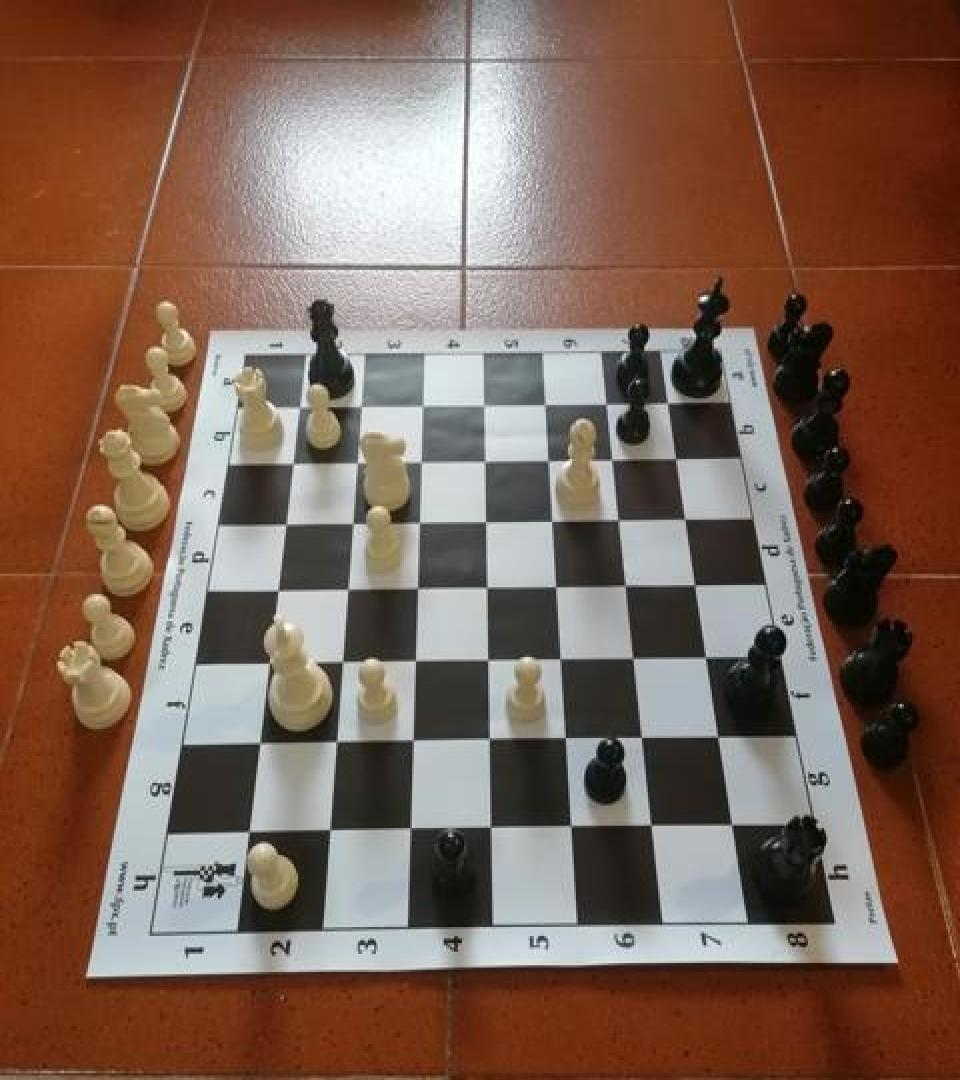xcorner: (659, 388, 687, 420), (596, 388, 624, 420), (534, 388, 562, 420), (472, 389, 500, 421), (409, 389, 437, 421), (347, 389, 375, 421), (284, 390, 312, 422), (667, 444, 695, 476), (603, 444, 631, 476), (538, 445, 566, 477), (473, 445, 501, 477), (408, 445, 436, 477), (677, 505, 705, 537), (609, 506, 637, 538), (542, 506, 570, 538), (474, 506, 502, 538), (406, 507, 434, 539), (338, 507, 366, 539), (270, 508, 298, 540), (687, 571, 715, 603), (329, 648, 357, 680), (254, 648, 282, 680), (710, 723, 738, 755), (633, 724, 661, 756), (723, 811, 751, 843), (643, 812, 671, 844), (561, 813, 589, 845), (480, 813, 508, 845), (399, 814, 427, 846), (343, 447, 371, 478), (277, 447, 305, 478), (616, 573, 644, 604), (546, 573, 574, 604), (475, 574, 503, 605), (405, 574, 433, 605), (334, 575, 362, 606), (263, 575, 291, 606), (698, 645, 726, 676), (624, 645, 652, 676), (551, 646, 579, 677), (477, 646, 505, 677), (403, 647, 431, 678), (556, 726, 584, 757), (478, 726, 506, 757), (401, 727, 429, 758), (323, 728, 351, 759), (245, 728, 273, 759), (317, 816, 345, 847), (235, 817, 263, 848)
